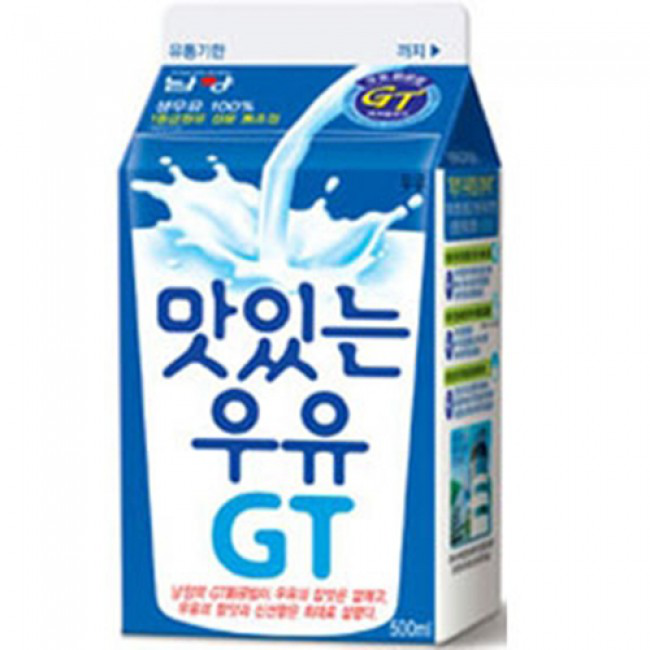milk: (117, 2, 503, 650)
